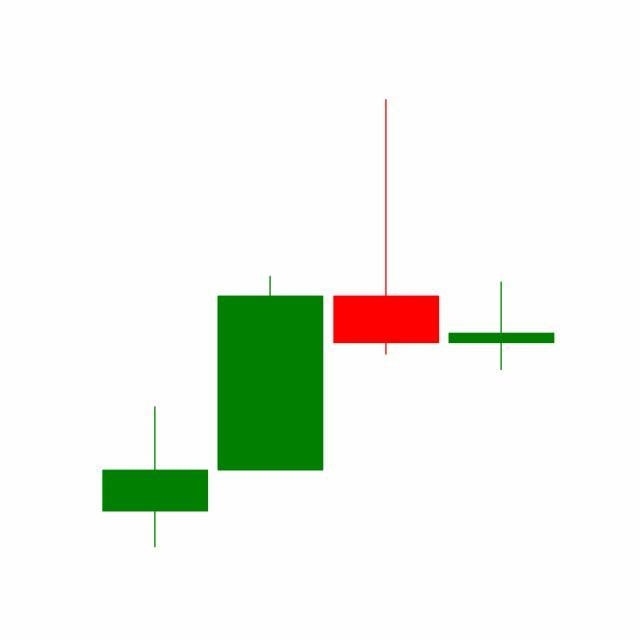Spinning Top: (444, 282, 560, 373)
